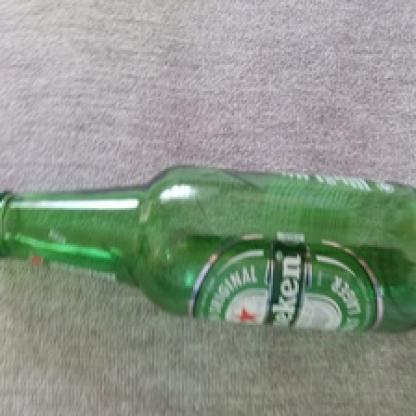Can: (0, 160, 416, 362)
